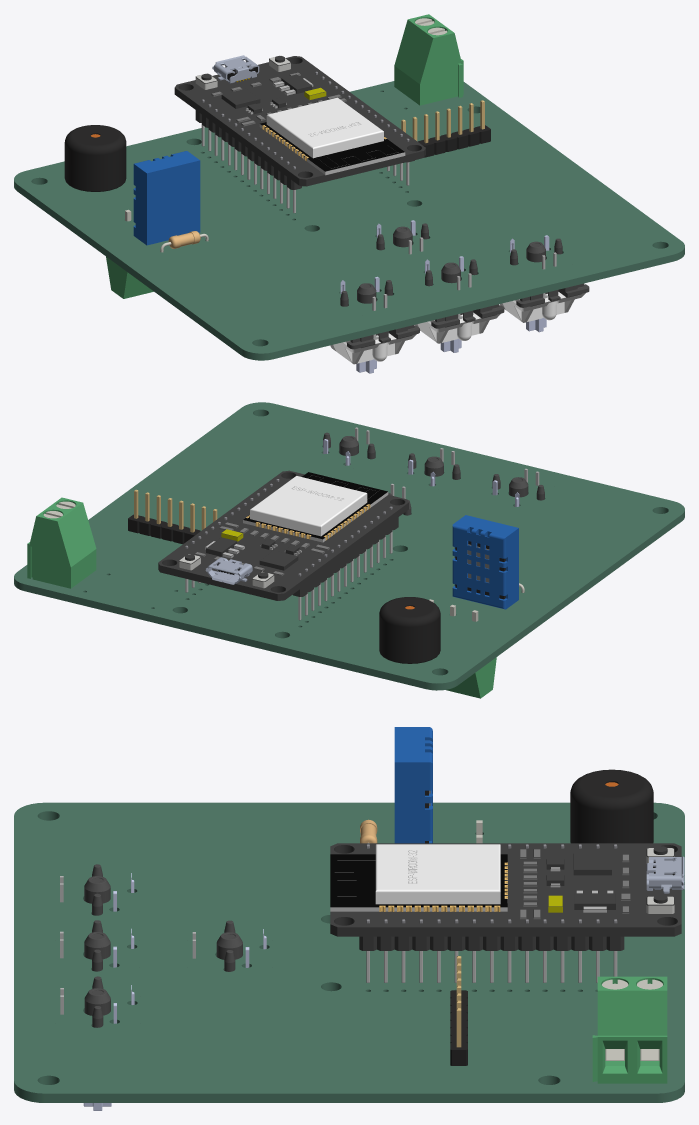
File: PCB.glb
3 renders of one model, top to bottom at view 1: azimuth 30°, elevation 25°; view 2: azimuth 150°, elevation 25°; view 3: azimuth 270°, elevation 25°, orthographic. The views are drawn at different scales.
Visible parts, largest first — view 1: =>[0:1:1:28], NAUO1 (×5), NAUO3 (×4), =>[0:1:1:14], =>[0:1:1:5], =>[0:1:1:16], =>[0:1:1:3], =>[0:1:1:27], NAUO2; view 2: =>[0:1:1:28], NAUO1 (×4), NAUO3, =>[0:1:1:14], =>[0:1:1:5], =>[0:1:1:16], =>[0:1:1:3], =>[0:1:1:27], NAUO2; view 3: =>[0:1:1:28], NAUO1 (×5), NAUO3, =>[0:1:1:5], =>[0:1:1:16], =>[0:1:1:14], =>[0:1:1:3], NAUO2.
Boxes of the visible parts, x1,y1,x2,y2 form: =>[0:1:1:28]: (14, 81, 684, 360); NAUO1 (×5): (174, 55, 589, 349); NAUO3 (×4): (259, 97, 585, 364); =>[0:1:1:14]: (133, 151, 200, 245); =>[0:1:1:5]: (394, 14, 463, 105); =>[0:1:1:16]: (64, 125, 126, 191); =>[0:1:1:3]: (401, 100, 490, 162); =>[0:1:1:27]: (106, 209, 153, 298); NAUO2: (212, 55, 259, 83); =>[0:1:1:28]: (14, 402, 684, 690); NAUO1 (×4): (158, 432, 544, 620); NAUO3: (243, 472, 388, 542); =>[0:1:1:14]: (452, 515, 518, 609); =>[0:1:1:5]: (27, 497, 96, 588); =>[0:1:1:16]: (379, 597, 440, 663); =>[0:1:1:3]: (128, 489, 217, 544); =>[0:1:1:27]: (429, 599, 497, 698); NAUO2: (205, 557, 252, 584); =>[0:1:1:28]: (14, 802, 684, 1102); NAUO1 (×5): (84, 843, 681, 1027); NAUO3: (330, 844, 507, 911); =>[0:1:1:5]: (592, 976, 667, 1083); =>[0:1:1:16]: (570, 769, 653, 843); =>[0:1:1:14]: (394, 727, 432, 843); =>[0:1:1:3]: (450, 956, 467, 1065); NAUO2: (646, 856, 684, 893).
Size of the model in its own units: 0.099 by 0.031 by 0.0965.
